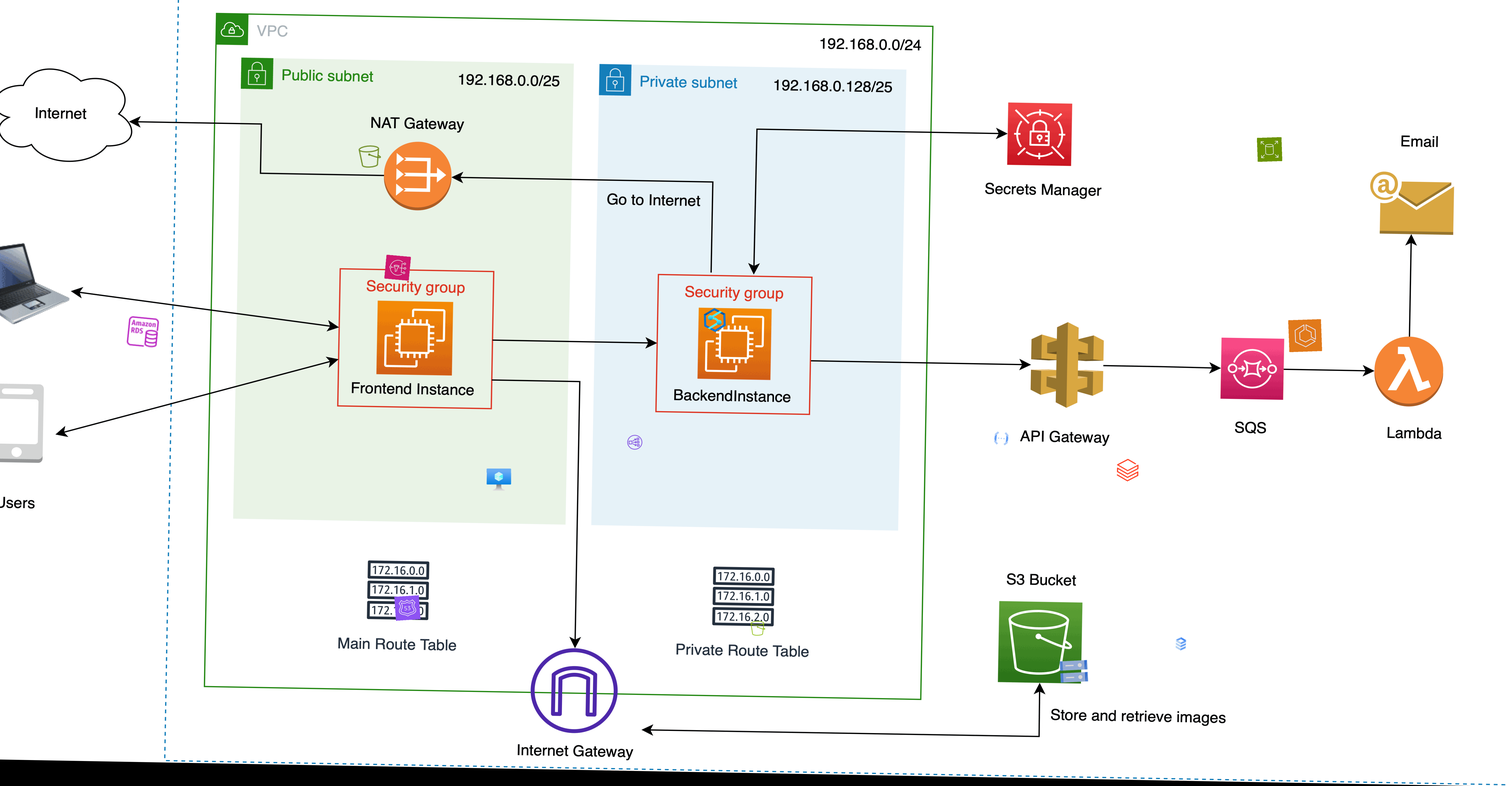aws_amazon_elastic_block_store: (1256, 136, 1283, 162)
aws_amazon_elastic_container_service: (1287, 318, 1323, 353)
aws_amazon_route_53: (394, 595, 421, 621)
aws_amazon_simple_notification_service: (384, 254, 411, 281)
aws_aurora_amazon_rds_instance: (125, 314, 161, 349)
aws_elastic_load_balancing_network_load_balancer: (626, 433, 644, 451)
aws_simple_storage_service_bucket: (356, 143, 383, 170)
aws_simple_storage_service_s3_standard: (749, 619, 767, 637)
azure_databricks: (1115, 458, 1140, 482)
azure_synapse_analytics: (701, 307, 728, 333)
azure_virtual_machine: (486, 468, 512, 493)
gcp_cloud_functions: (992, 429, 1010, 447)
gcp_cloud_sql: (1172, 635, 1190, 652)
gcp_cloud_storage: (1056, 654, 1092, 689)
